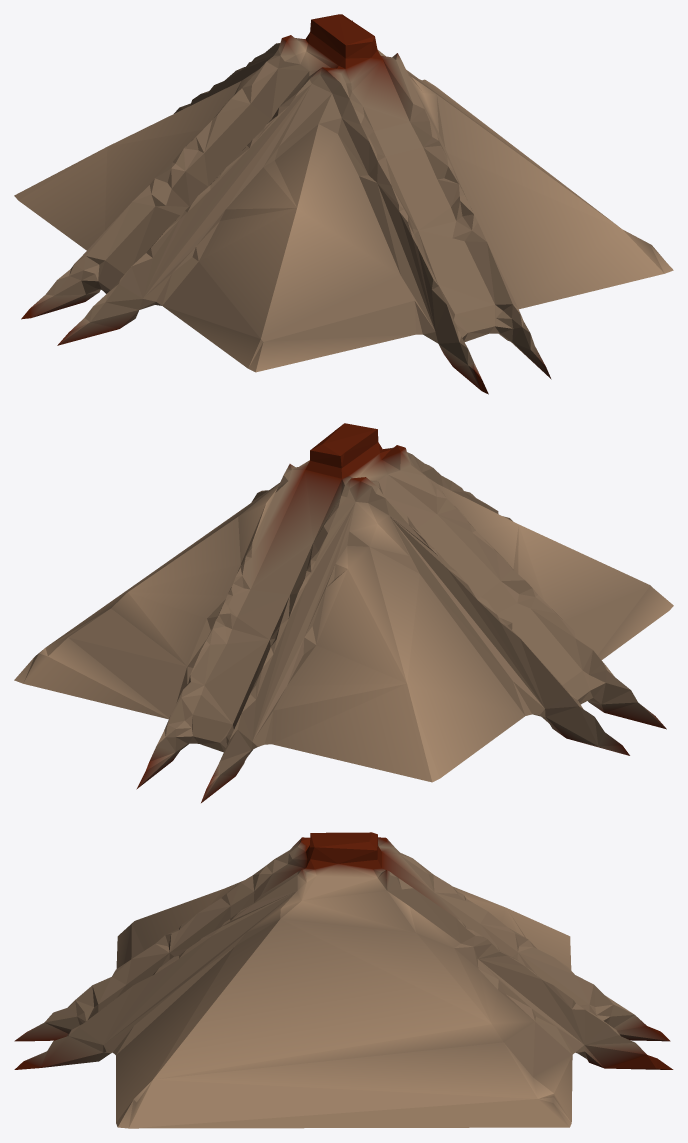
Rendered from Aztec Pyramids.glb.
3 renders of one model, top to bottom at view 1: azimuth 30°, elevation 25°; view 2: azimuth 150°, elevation 25°; view 3: azimuth 270°, elevation 25°, orthographic. The views are drawn at different scales.
Parts seen in each view (by area): view 1: Root; view 2: Root; view 3: Root.
Part boxes in pixels (x1,y1,x2,y2): Root: [14, 14, 673, 394]; Root: [14, 423, 673, 802]; Root: [14, 832, 673, 1128].
Bounding box in the file's own units: 23.49 × 10.12 × 27.78.
